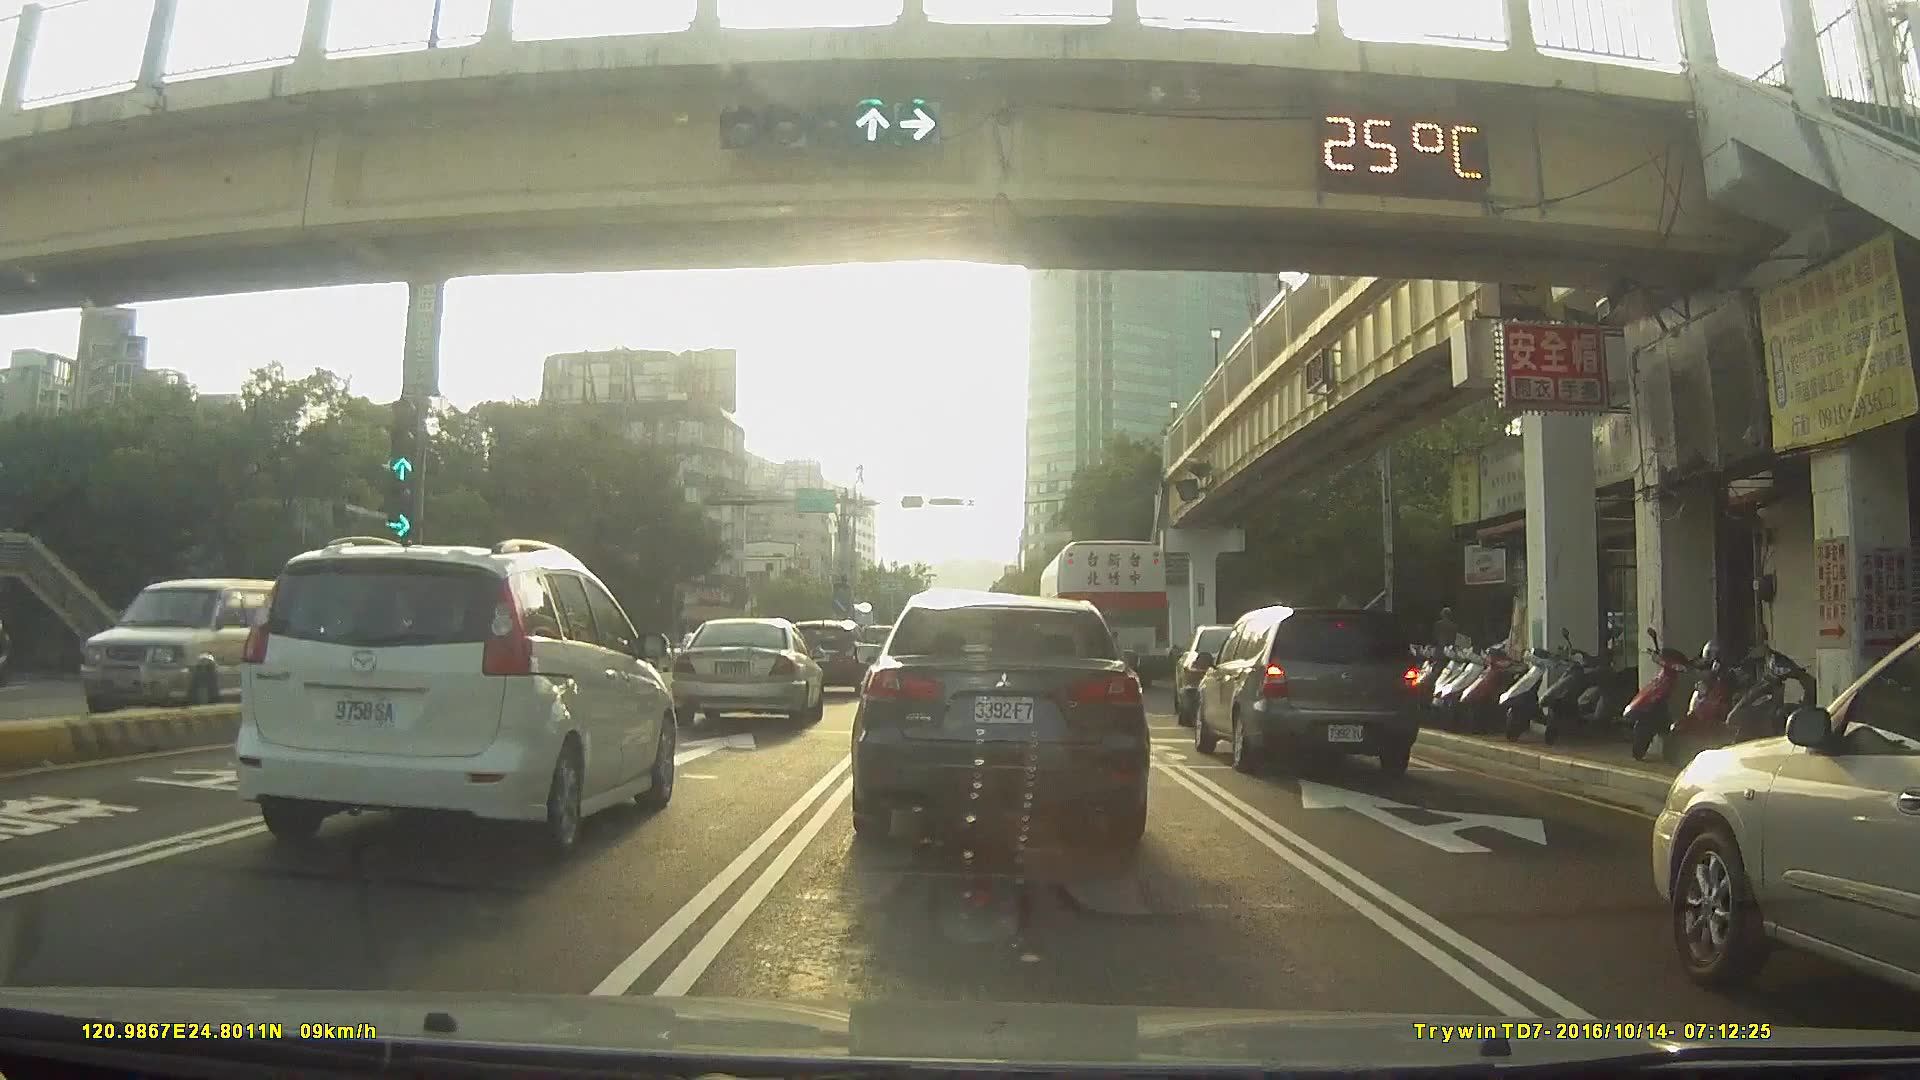vehicle: (225, 535, 682, 861), (1648, 628, 1920, 997), (849, 589, 1147, 855), (1191, 604, 1419, 781), (62, 571, 284, 721), (1035, 539, 1174, 688), (670, 615, 822, 729), (1180, 621, 1302, 720), (781, 620, 865, 696), (647, 633, 705, 680)
